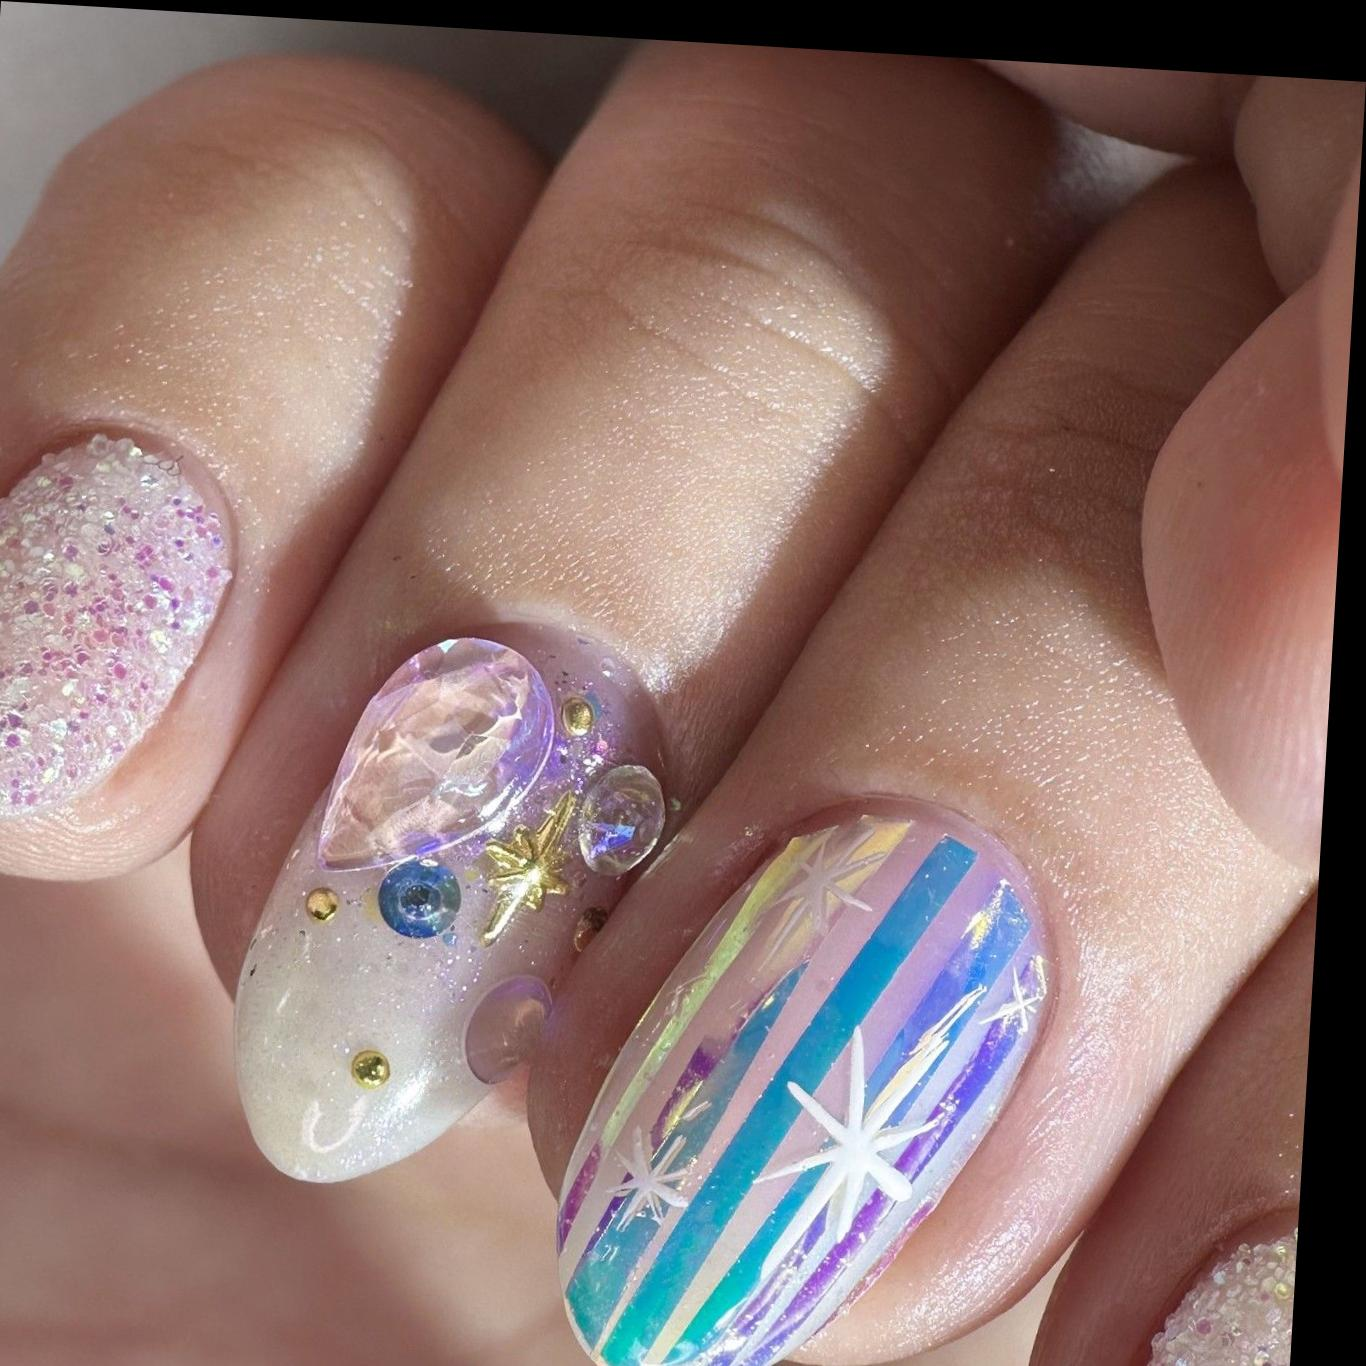nail: (543, 776, 1065, 1366), (220, 602, 686, 1207), (0, 423, 241, 841)
